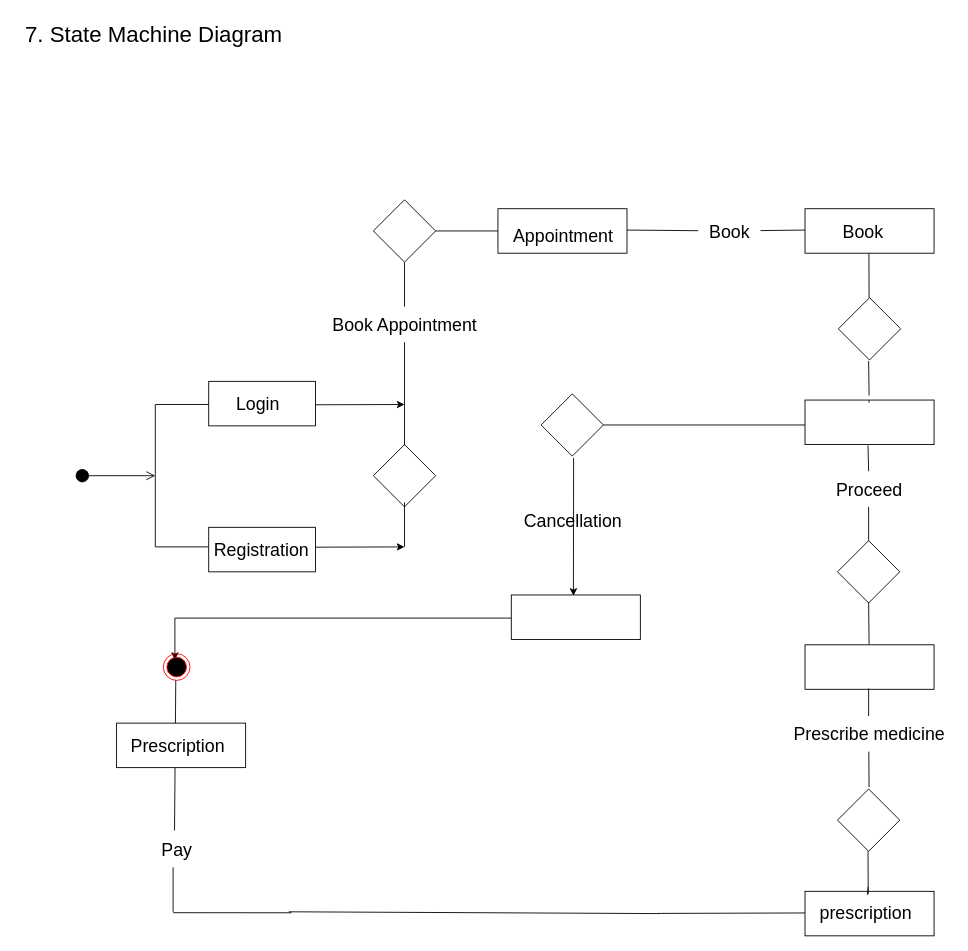
Image size: 968x951. Some labels were removed from this diagram. The shapes that lost their labels are listed below. From the top down, each one's box as (x1, y1, x2, y2) in pixels, then its label:
(804, 399, 934, 445): Get Slot
(510, 594, 640, 639): Cancel
(804, 644, 934, 689): Consult Doctor
